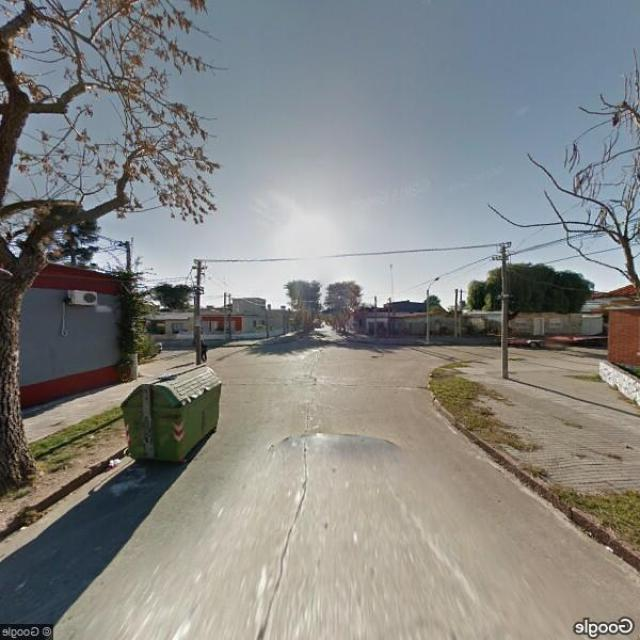garbage container: (107, 349, 227, 492)
